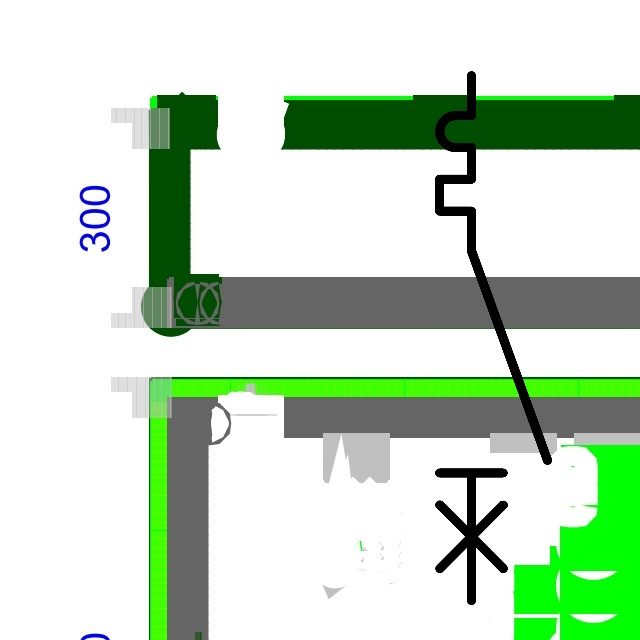interruptor_termomagnetico: (426, 62, 561, 614)
